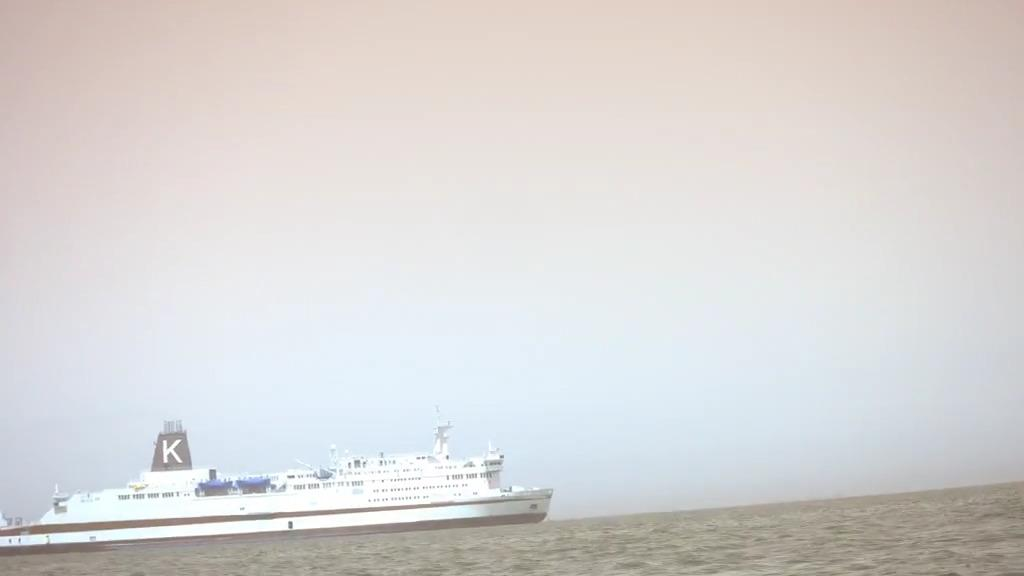PassengerShip: (0, 410, 556, 572)
